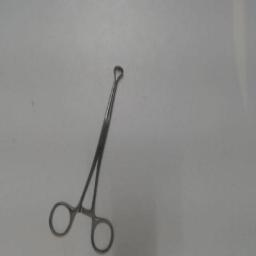Babcock Tissue Forceps: (48, 60, 128, 256)
